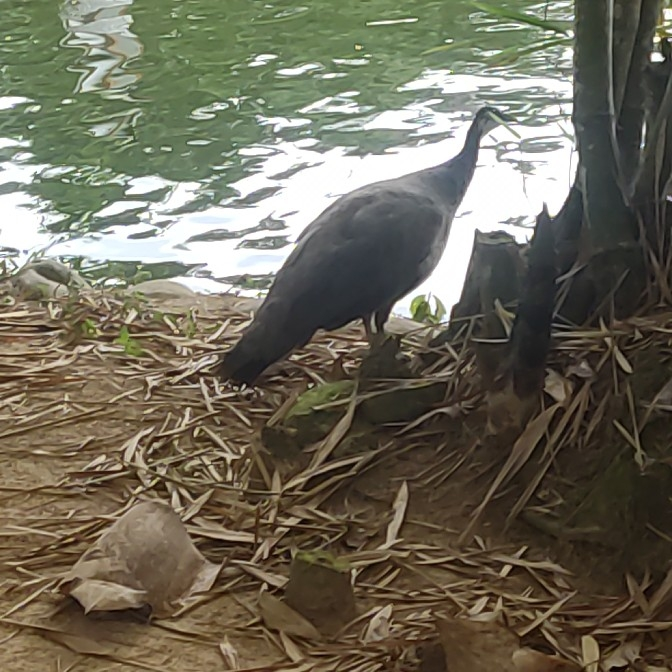Not_a_Chicken: (211, 88, 521, 393)
